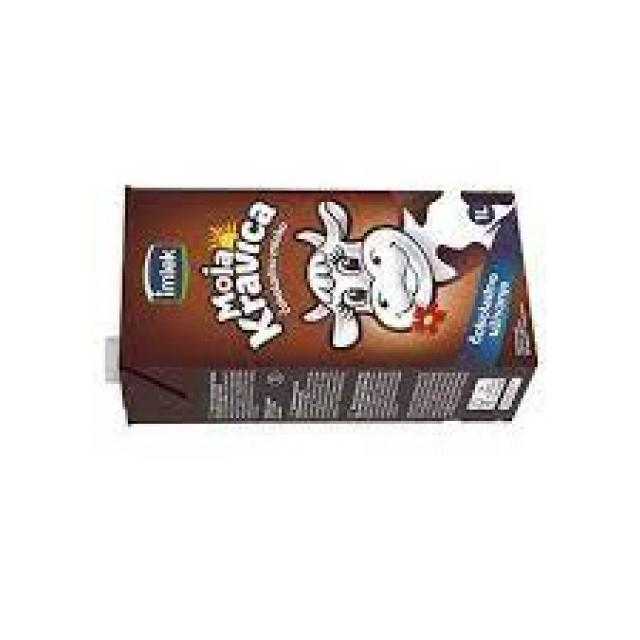non_white_jug: (103, 184, 541, 427)
